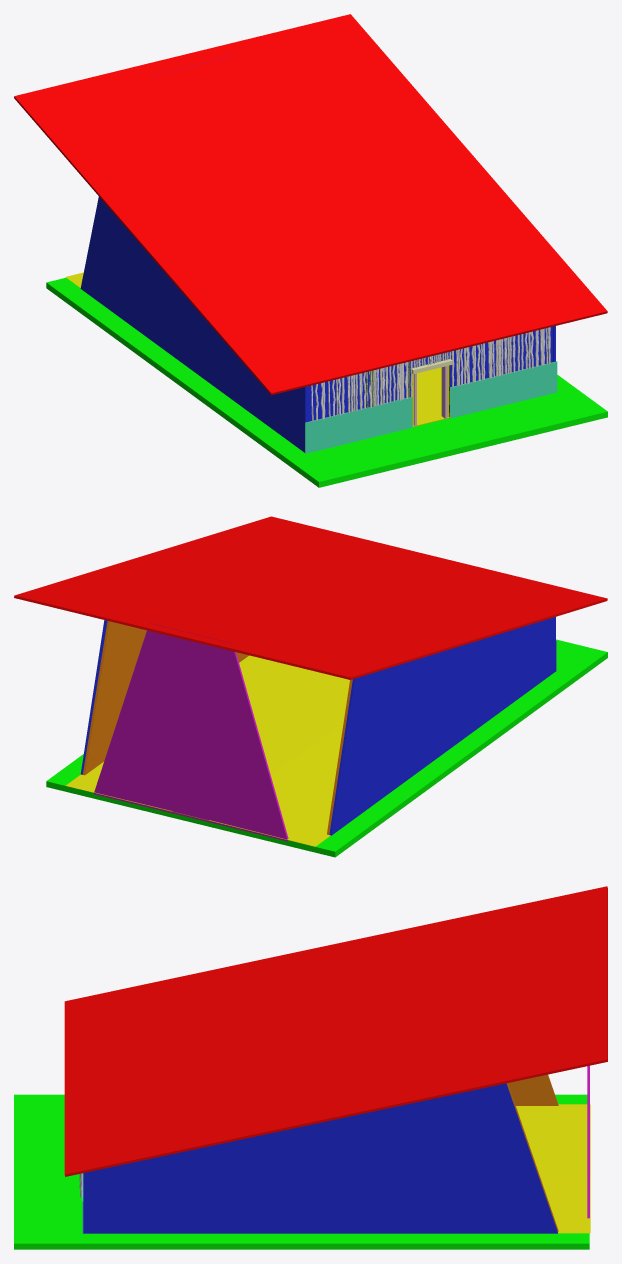
Rendered from FunkBunkBarExterior3.fbx.
3 views of the same model, one above another, from view 1: azimuth 30°, elevation 25°; view 2: azimuth 150°, elevation 25°; view 3: azimuth 270°, elevation 25° (orthographic). The views are drawn at different scales.
Parts seen in each view (by area): view 1: Roof, Ground, WallBar, CementFrontR, CementFrontL, ExteriorWallDj, InsideFloor; view 2: Roof, BackWall, WallBar, InsideFloor, Ground, InteriorDJWall.001, ExteriorWallDj, InteriorDJWall; view 3: Roof, ExteriorWallDj, Ground, InsideFloor, InteriorDJWall.
Boxes of the visible parts, x1=… form: Roof: x1=14, y1=14, x2=607, y2=395; Ground: x1=46, y1=277, x2=607, y2=487; WallBar: x1=80, y1=196, x2=410, y2=452; CementFrontR: x1=449, y1=361, x2=557, y2=418; CementFrontL: x1=305, y1=397, x2=412, y2=453; ExteriorWallDj: x1=412, y1=326, x2=555, y2=412; InsideFloor: x1=66, y1=272, x2=449, y2=426; Roof: x1=14, y1=516, x2=607, y2=679; BackWall: x1=93, y1=623, x2=288, y2=841; WallBar: x1=329, y1=617, x2=555, y2=835; InsideFloor: x1=65, y1=655, x2=349, y2=846; Ground: x1=46, y1=639, x2=607, y2=857; InteriorDJWall.001: x1=82, y1=621, x2=248, y2=775; ExteriorWallDj: x1=80, y1=620, x2=107, y2=774; InteriorDJWall: x1=327, y1=679, x2=352, y2=834; Roof: x1=64, y1=886, x2=607, y2=1176; ExteriorWallDj: x1=83, y1=1083, x2=557, y2=1233; Ground: x1=14, y1=1094, x2=589, y2=1249; InsideFloor: x1=516, y1=1104, x2=590, y2=1233; InteriorDJWall: x1=508, y1=1074, x2=558, y2=1105.
Bounding box in the file's own units: 1211 × 660 × 1754.
